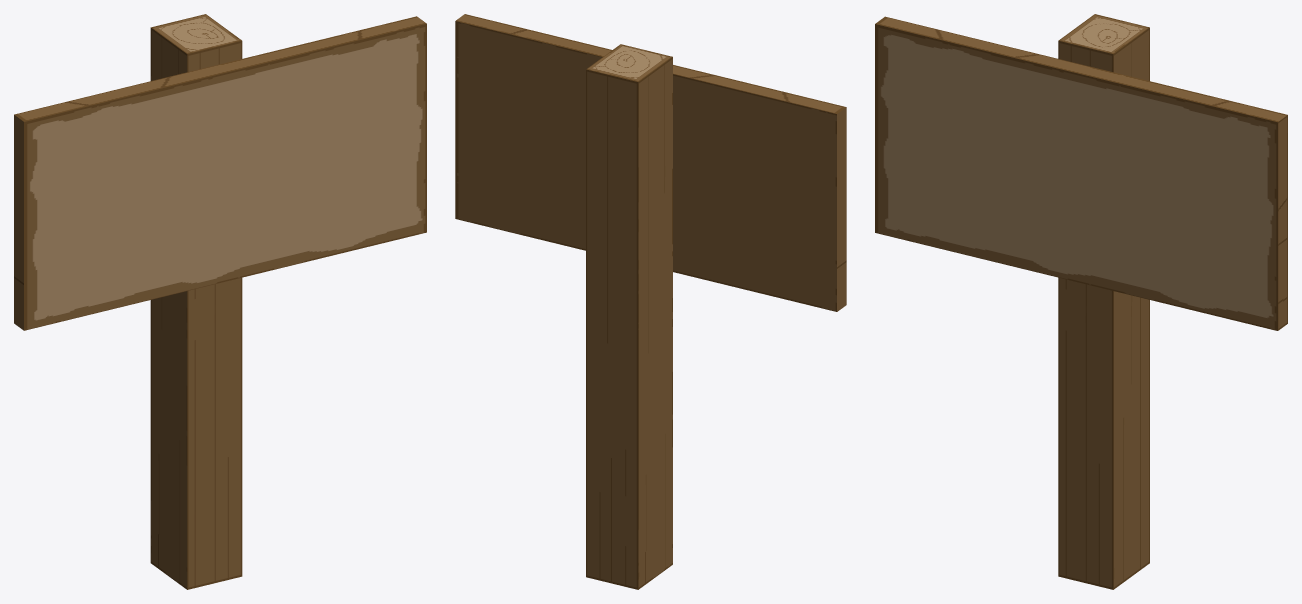
File: sign board.fbx
3 renders of one model, left to right at view 1: azimuth 30°, elevation 25°; view 2: azimuth 150°, elevation 25°; view 3: azimuth 330°, elevation 25°, orthographic. The views are drawn at different scales.
Visible parts, largest first — view 1: pCube2, pCube1; view 2: pCube2, pCube1; view 3: pCube2, pCube1.
Boxes of the visible parts, box(x1,y1,x2,y2) form: pCube2: box(14, 16, 426, 330); pCube1: box(150, 14, 242, 589); pCube2: box(455, 14, 846, 311); pCube1: box(586, 44, 672, 589); pCube2: box(875, 16, 1287, 330); pCube1: box(1058, 14, 1149, 589).
Bounding box in the file's own units: 0.7846 × 0.9973 × 0.1571.
2 materials, 2 textured.
